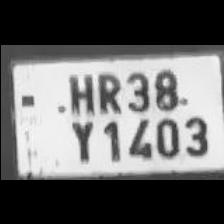0: (153, 112, 179, 158)
1: (96, 114, 122, 160)
3: (180, 110, 210, 156), (121, 66, 150, 110)
4: (122, 112, 152, 160)
8: (150, 64, 180, 108)
H: (64, 68, 96, 118)
R: (94, 67, 122, 113)
Y: (64, 114, 96, 162)
